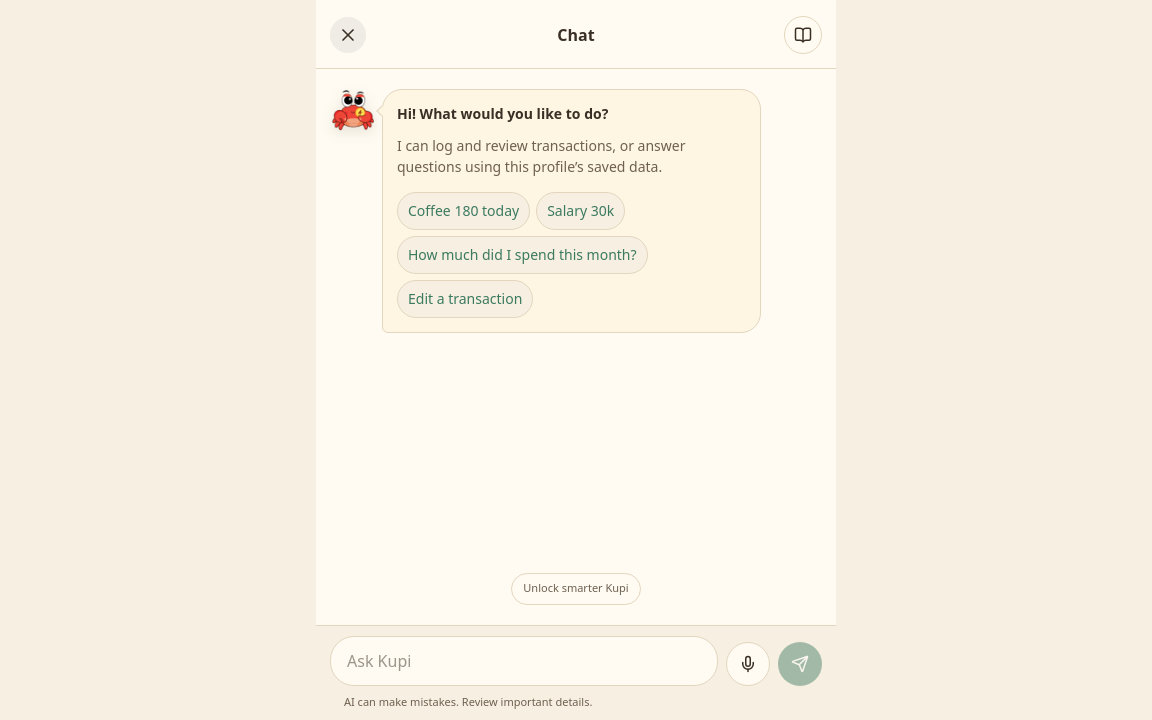
Test: Kupi chat action flow › turns voice input into an editable draft without sending it
Expected: the text box named "Message Kupi" is enabled, [330,636,718,686]
Click the button named "Start voice input": {"x": 748, "y": 664} [726,642,770,686]
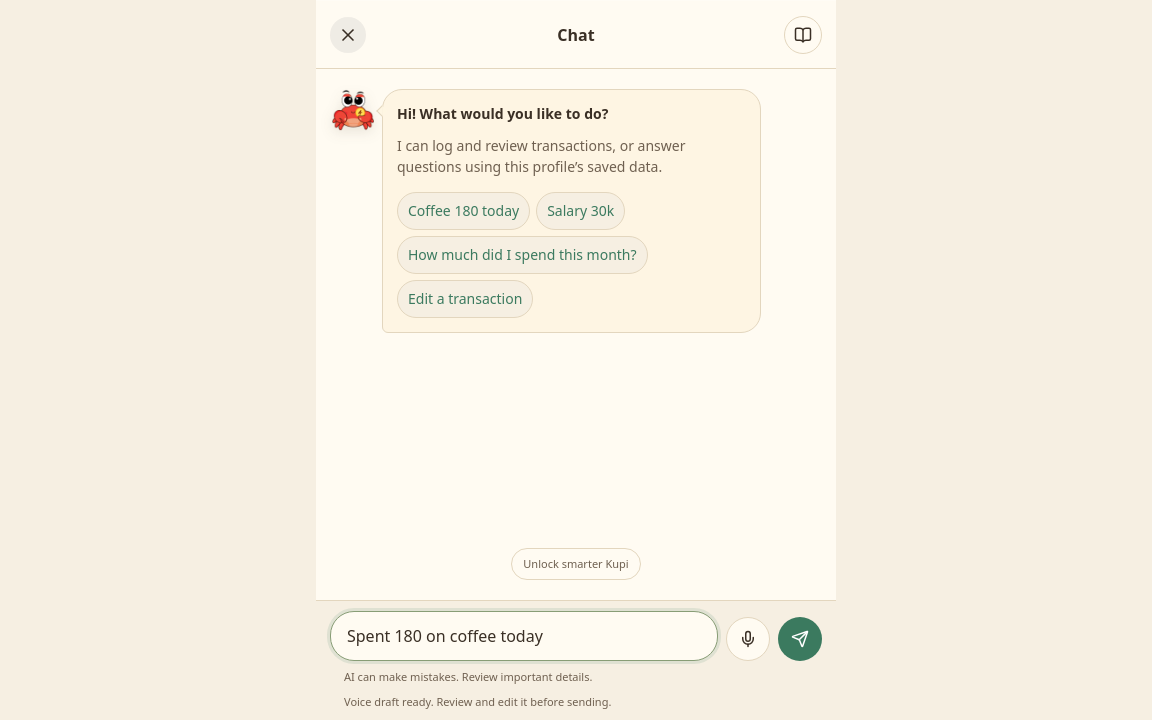
Expected: the text box named "Message Kupi" holds "Spent 180 on coffee today", [330,611,718,661]
Expected: the button named "Send message" is enabled, [778,617,822,661]
Expected: the text "Voice draft ready. Review and edit it before sending." is shown, [344,694,611,708]
